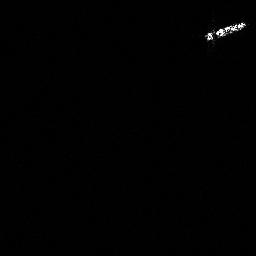ship: (202, 18, 249, 44)
